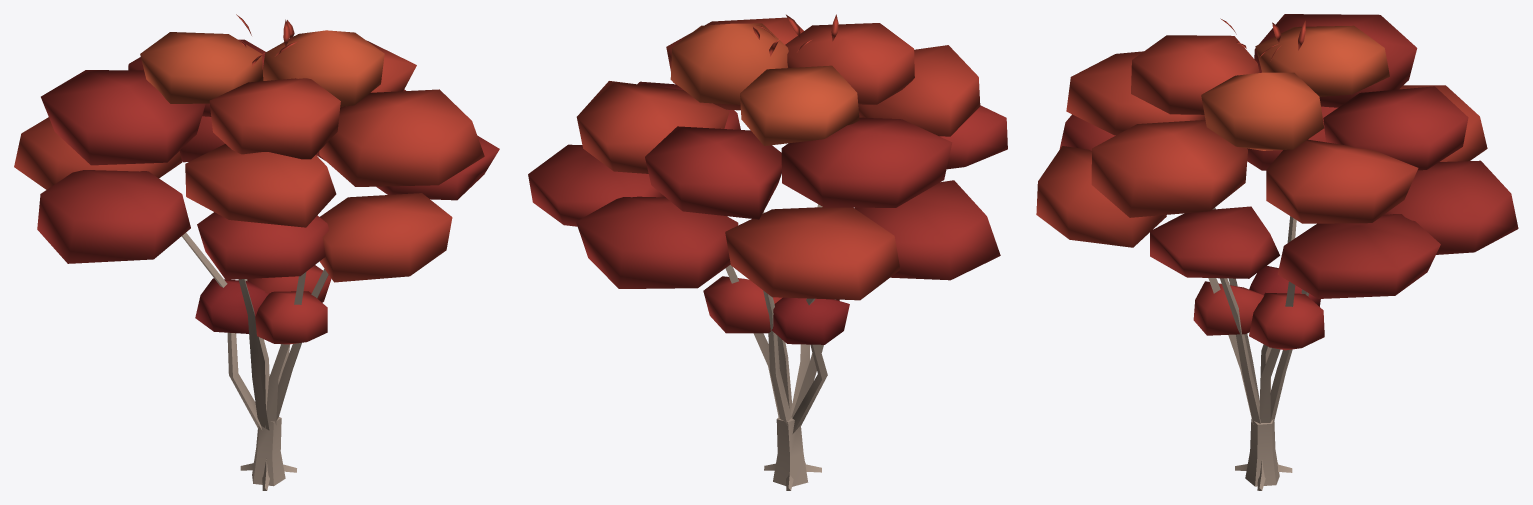
File: japaneseMaple.far.glb
3 views of the same model, side by side, from view 1: azimuth 30°, elevation 25°; view 2: azimuth 150°, elevation 25°; view 3: azimuth 270°, elevation 25° (orthographic).
Parts seen in each view (by area): view 1: japaneseMaple; view 2: japaneseMaple; view 3: japaneseMaple.
Boxes of the visible parts, x1,y1,x2,y2 form: japaneseMaple: (14, 14, 499, 490); japaneseMaple: (528, 14, 1007, 490); japaneseMaple: (1036, 14, 1518, 490).
Size of the model in its own units: 3.74 by 4.09 by 3.93.
